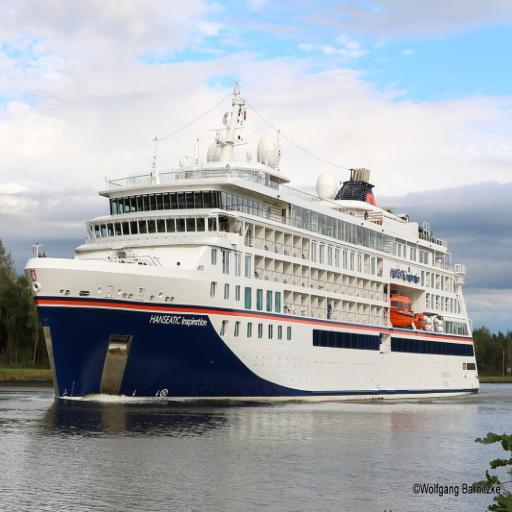cruises: (24, 80, 485, 416)
